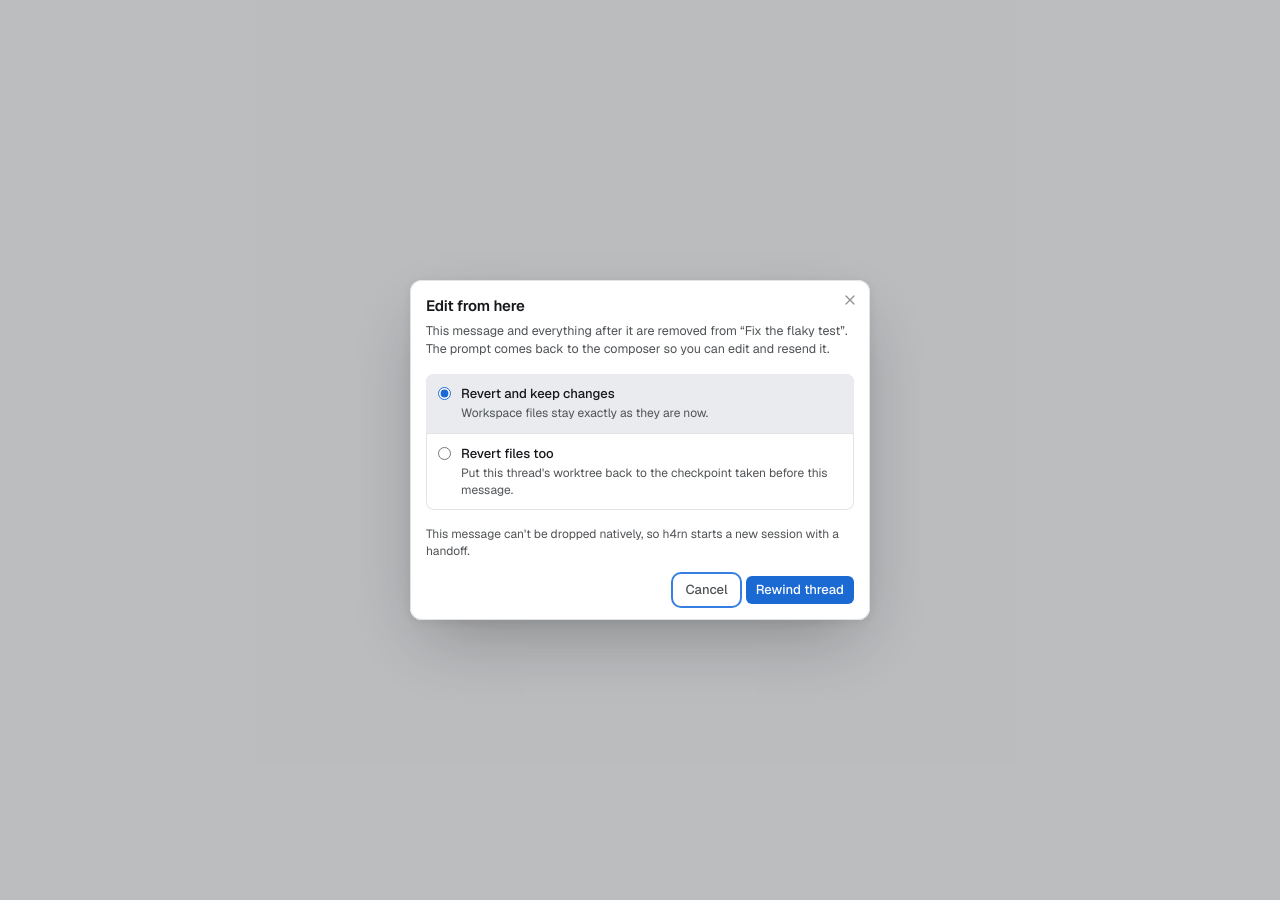
Test case: RewindDialog › names the ignored files a restore leaves alone
The width and height of the screenshot is (1280, 900).
Expected: the text "Revert files too" is shown, [461, 445, 554, 462]
Expected: the text "Ignored files stay as they are" is not shown
Click the radio button labelled "Revert files too" at x=444, y=454, box [438, 447, 451, 460]
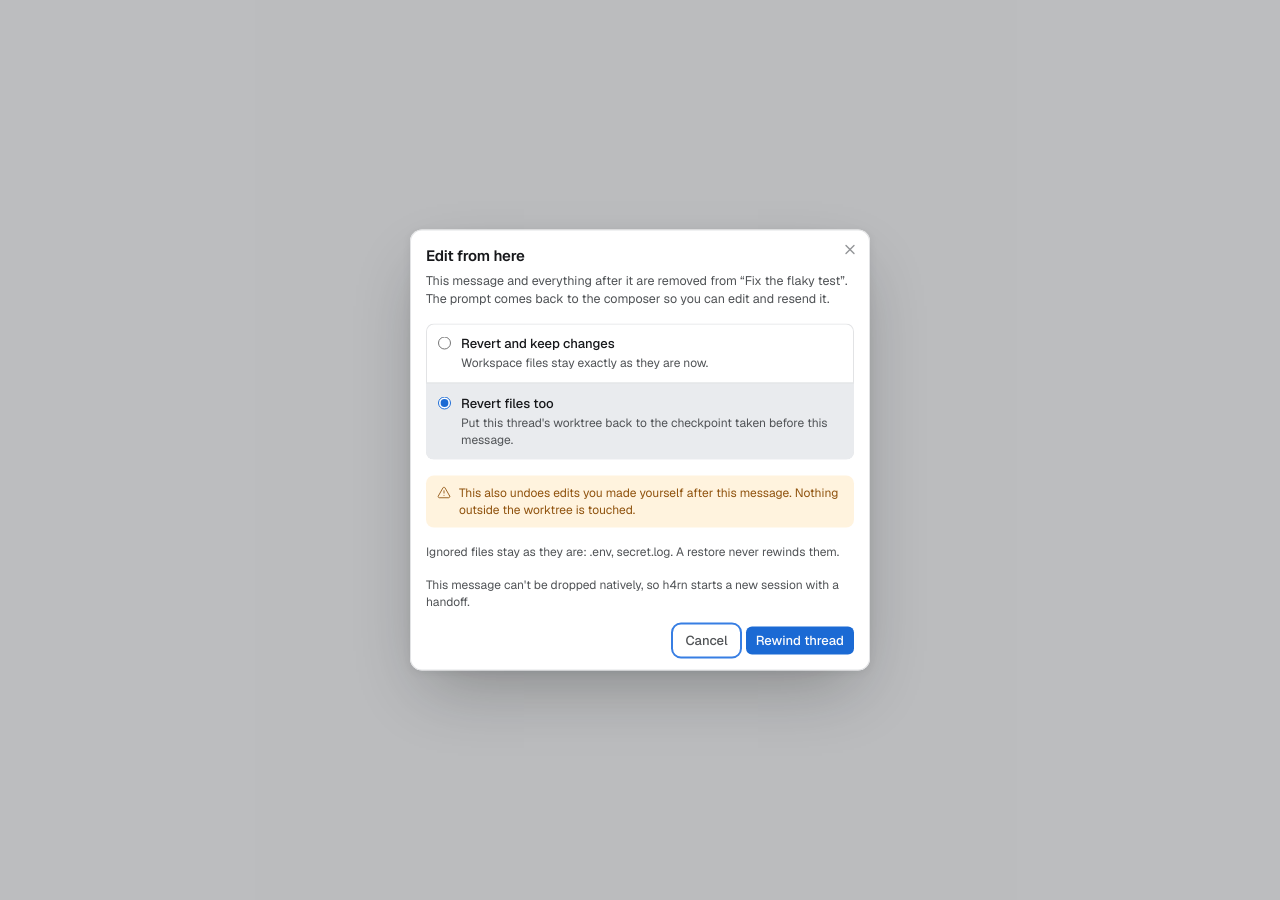
Expected: the text "Ignored files stay as they are: .env, secret.log." is shown, [426, 544, 839, 560]
